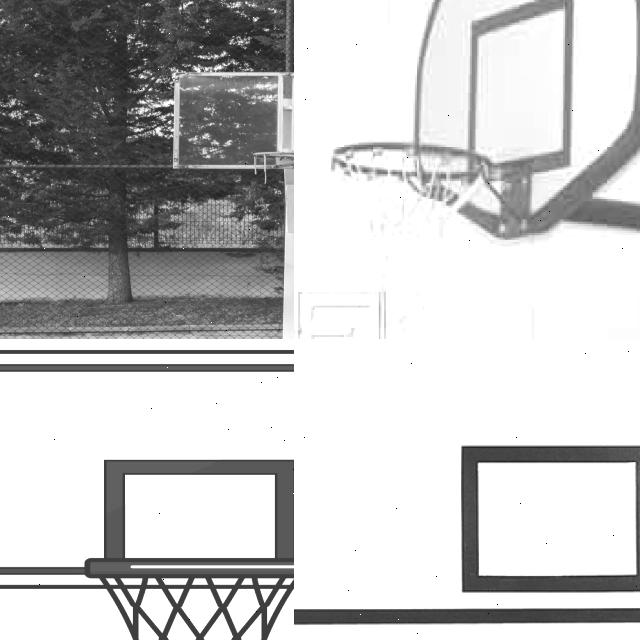backboard: (294, 339, 640, 640), (0, 346, 294, 598), (172, 72, 294, 167)
